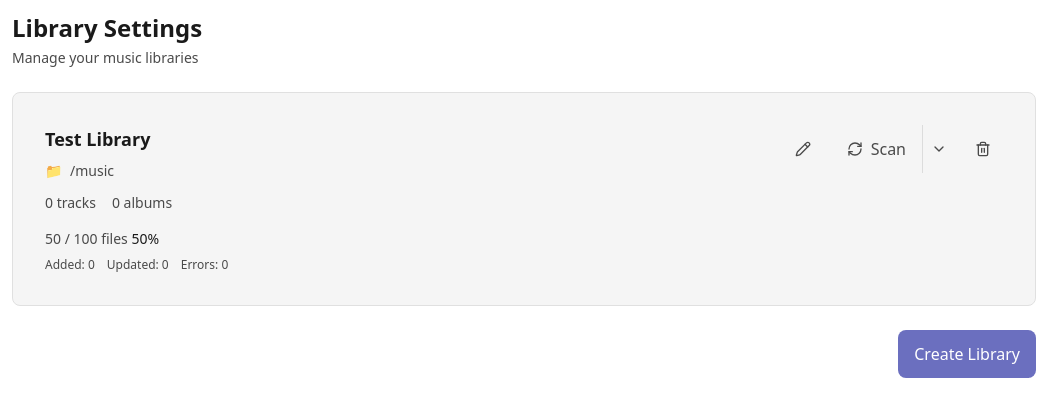
Library Scan Progress › should display file count (processed/total)
The width and height of the screenshot is (1048, 395).
Note: Start scan and send progress
Click the button with test id "scan-library-button-1": (876, 149) [831, 125, 922, 173]
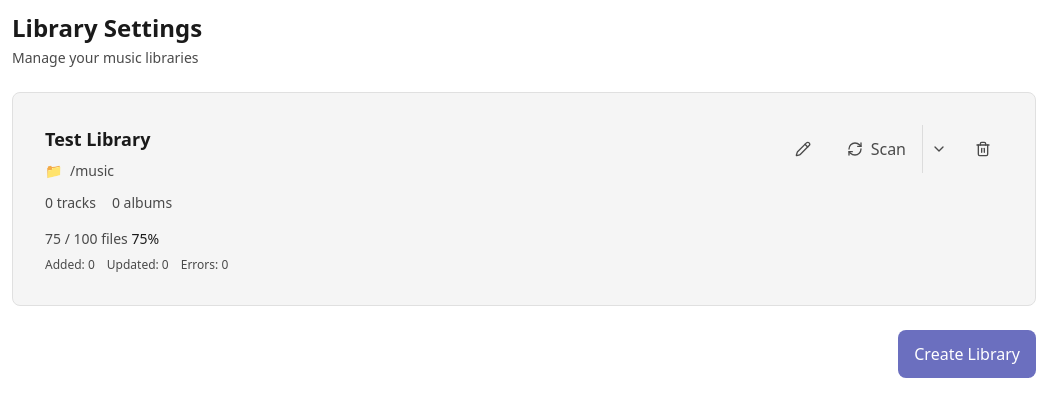
expect the text with test id "scan-progress-file-count-1" shows "100": met, box [45, 229, 128, 248]
expect the text with test id "scan-progress-file-count-1" shows "75": met, box [45, 229, 128, 248]
